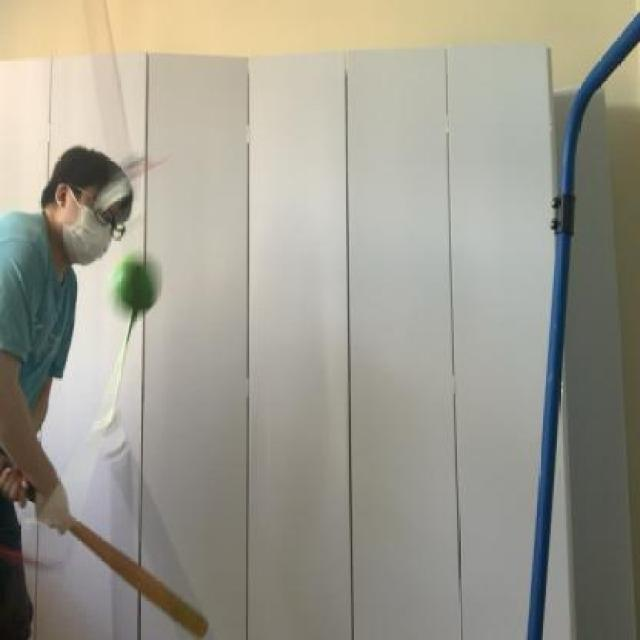baseball: (107, 246, 161, 325)
